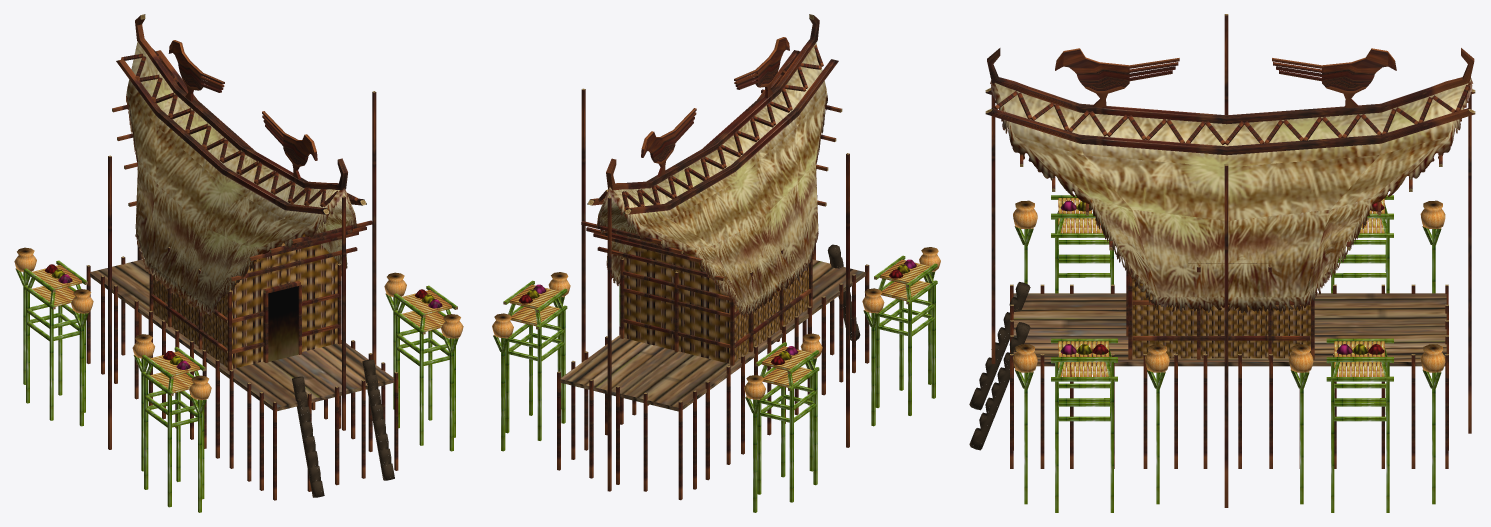
File: temple.dae
3 renders of one model, left to right at view 1: azimuth 30°, elevation 25°; view 2: azimuth 150°, elevation 25°; view 3: azimuth 270°, elevation 25°, orthographic. The views are drawn at different scales.
Visible parts, largest first — view 1: temple; view 2: temple; view 3: temple.
Part boxes in pixels (left/top/right/bottom): temple: left=14, top=14, right=463, bottom=512; temple: left=492, top=14, right=940, bottom=512; temple: left=969, top=14, right=1475, bottom=512.
Bounding box in the file's own units: 20.11 × 26.38 × 22.08.
